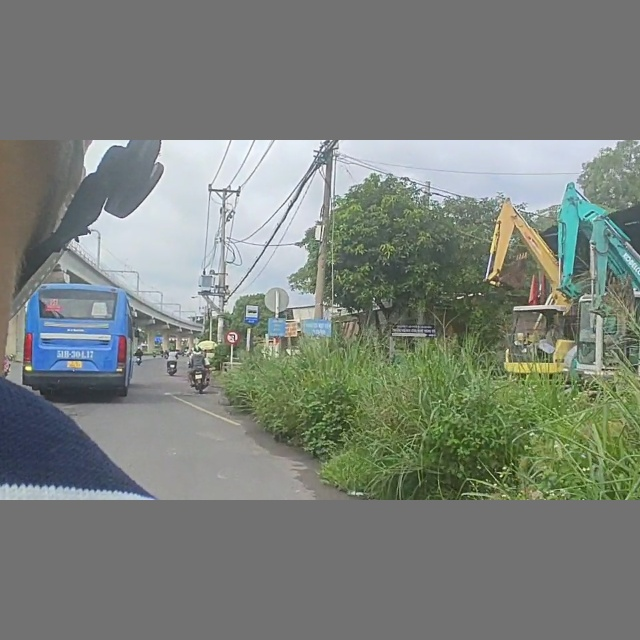I.434a: (245, 304, 260, 325)
P.123a: (224, 331, 241, 345)
